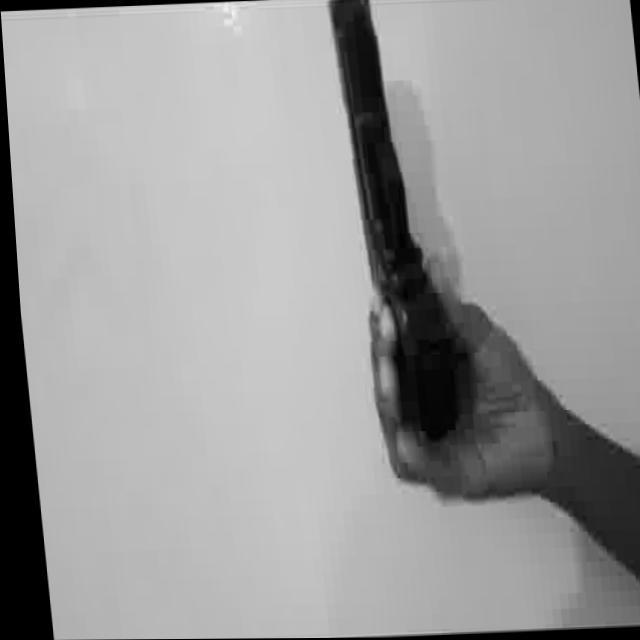weapon: (325, 0, 459, 443)
